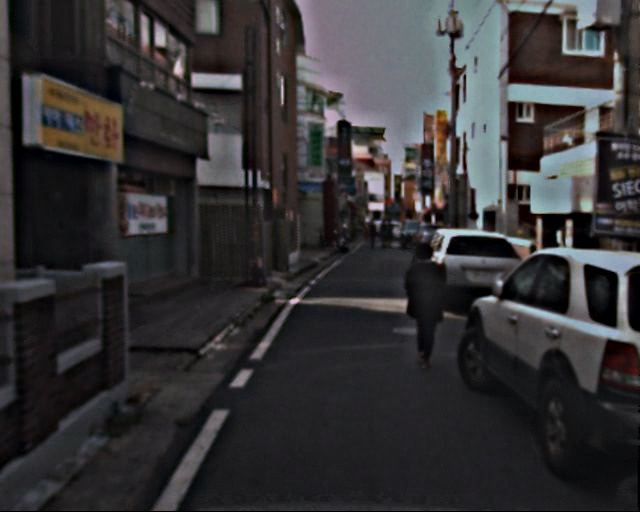person: (396, 238, 451, 371), (365, 218, 395, 247)
